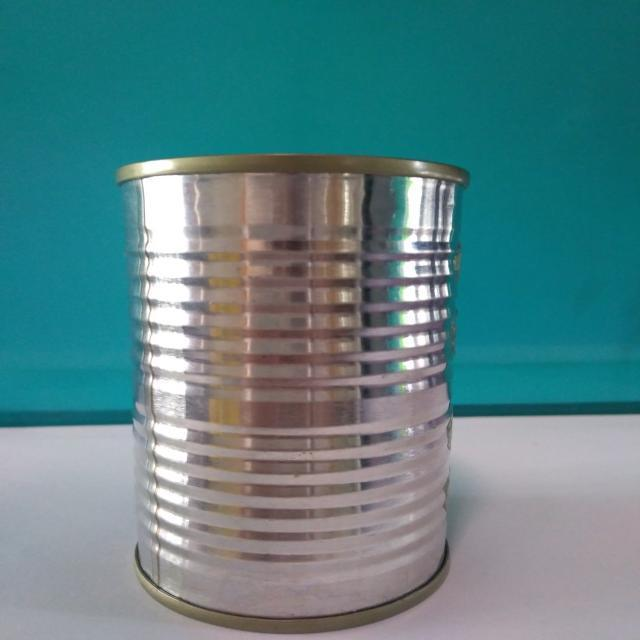metal-can: (113, 150, 471, 636)
